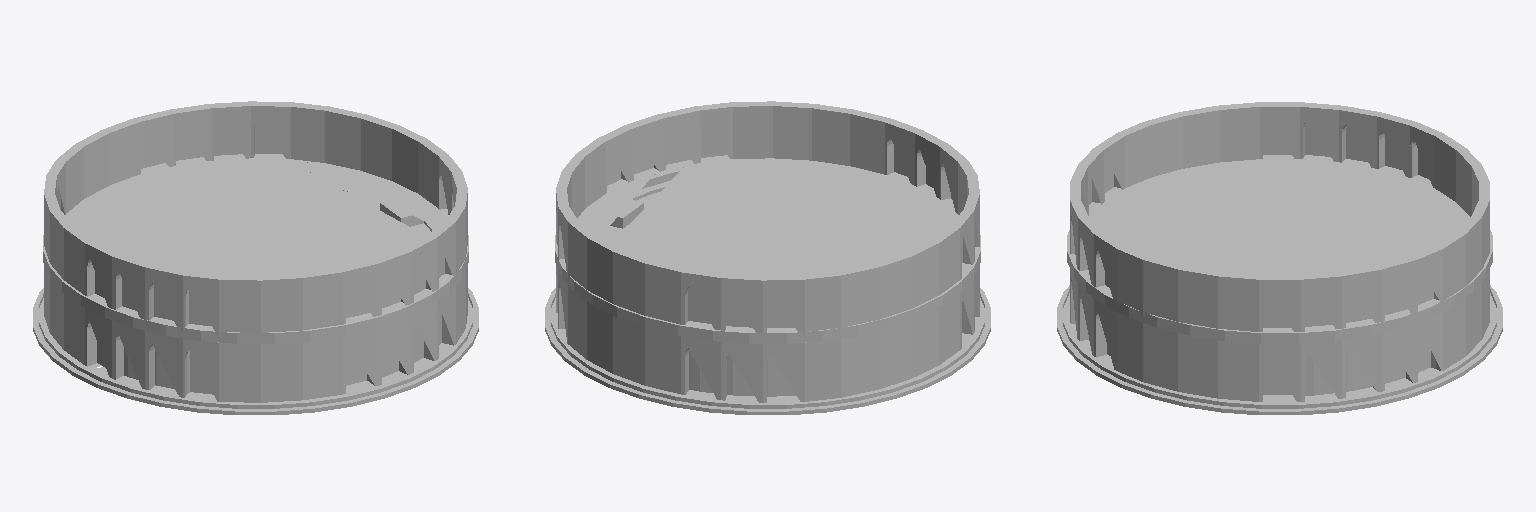
File: Arena.obj
3 renders of one model, left to right at view 1: azimuth 30°, elevation 25°; view 2: azimuth 150°, elevation 25°; view 3: azimuth 270°, elevation 25°, orthographic.
Visible parts, largest first — view 1: Arena_draft.lwo; view 2: Arena_draft.lwo; view 3: Arena_draft.lwo.
Part boxes in pixels (bbox=[...]): Arena_draft.lwo: bbox=[33, 101, 478, 414]; Arena_draft.lwo: bbox=[545, 101, 990, 414]; Arena_draft.lwo: bbox=[1057, 102, 1502, 414].
Size of the model in its own units: 32.31 by 10.37 by 32.31.